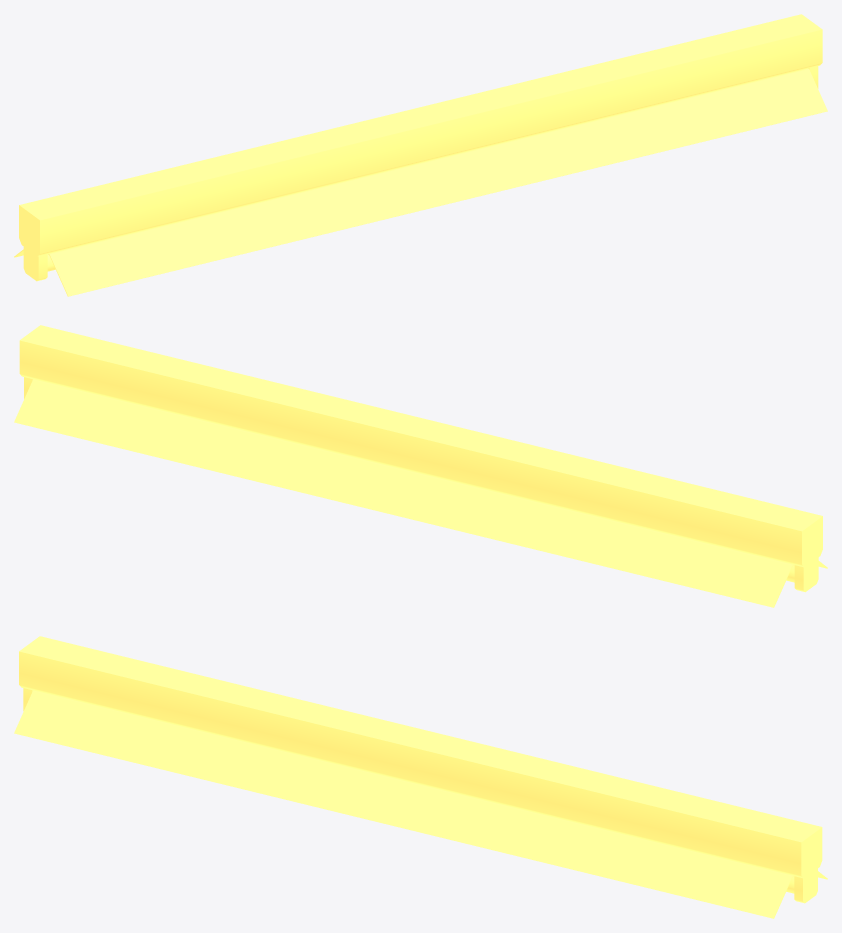
The model's file is SM_Light_Tube_01.FBX.
3 renders of one model, top to bottom at view 1: azimuth 30°, elevation 25°; view 2: azimuth 150°, elevation 25°; view 3: azimuth 330°, elevation 25°, orthographic.
Visible parts, largest first — view 1: SM_Light_Tube_01; view 2: SM_Light_Tube_01; view 3: SM_Light_Tube_01.
Part boxes in pixels (x1,y1,x2,y2): SM_Light_Tube_01: (14, 14, 827, 296); SM_Light_Tube_01: (14, 325, 827, 607); SM_Light_Tube_01: (14, 636, 827, 918).
Size of the model in its own units: 125 by 15.09 by 10.32.
